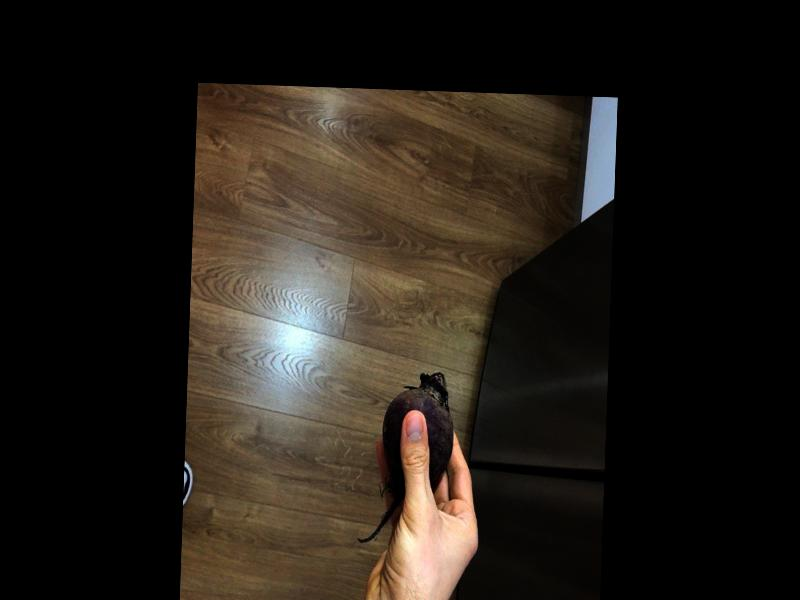Beet: (356, 368, 456, 543)
